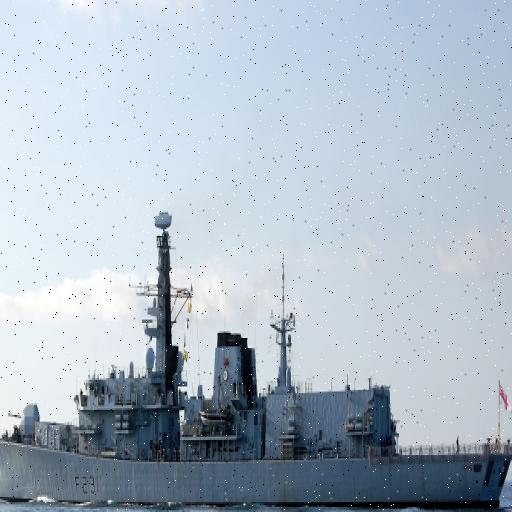Fragata: (1, 208, 512, 512)
